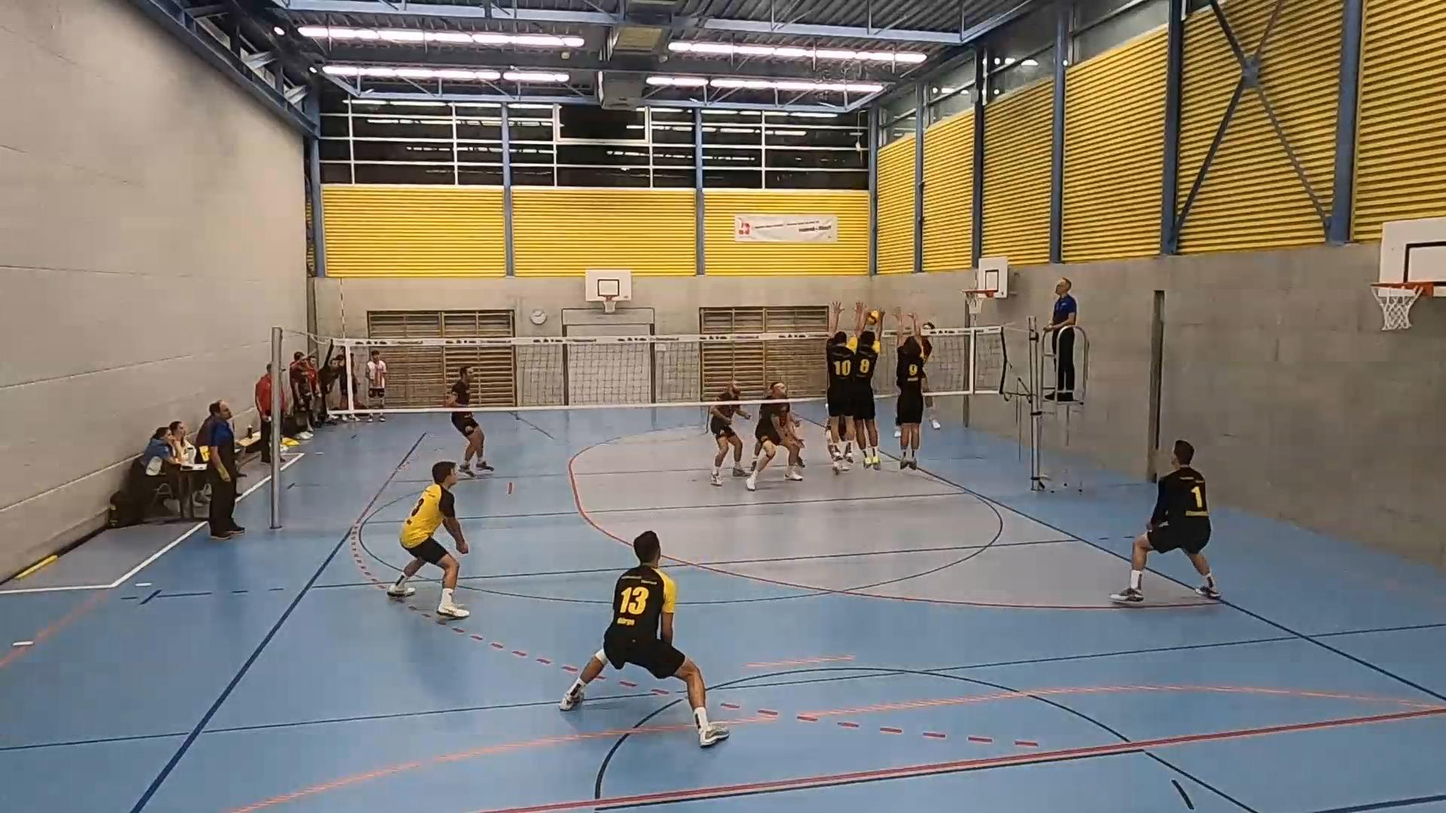attacco: (918, 313, 944, 432)
muro: (885, 307, 930, 474), (850, 304, 888, 477), (826, 304, 855, 470)
